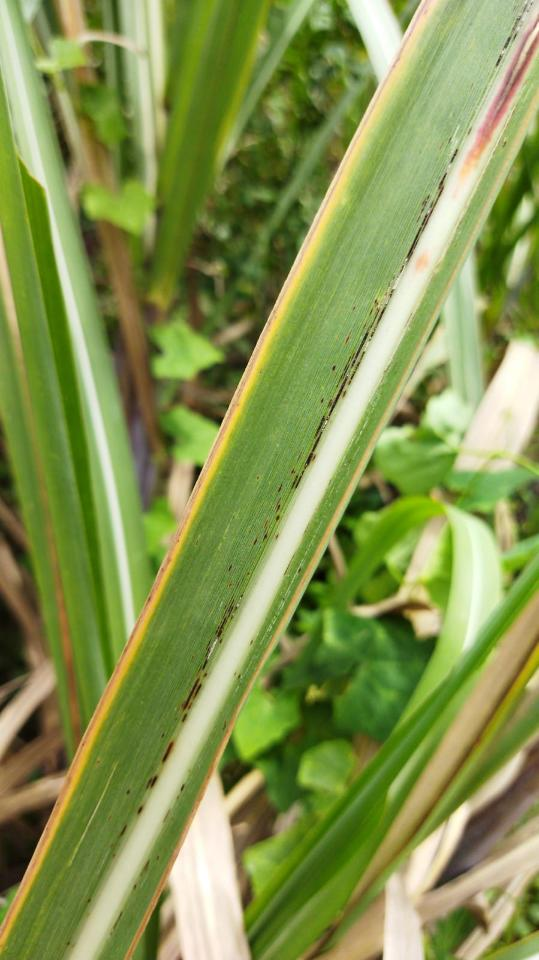RedRot: (452, 12, 539, 198), (415, 254, 429, 272)
Rust: (288, 146, 462, 494), (172, 559, 254, 728), (493, 0, 536, 68), (251, 481, 284, 547), (107, 908, 126, 939), (160, 738, 176, 765), (282, 551, 298, 578), (143, 773, 160, 791), (139, 858, 154, 878), (342, 330, 354, 347), (161, 807, 172, 825), (119, 824, 131, 839), (500, 136, 511, 150), (136, 804, 146, 817), (467, 125, 476, 137), (179, 782, 188, 794), (232, 671, 243, 680), (330, 363, 339, 373), (221, 720, 229, 731), (158, 731, 167, 740), (350, 304, 358, 313), (319, 395, 326, 405), (125, 787, 132, 797), (249, 638, 256, 647), (255, 475, 263, 482), (84, 897, 92, 904), (132, 883, 138, 890), (296, 568, 302, 575), (66, 940, 71, 946)
Yellow: (0, 0, 441, 959)
